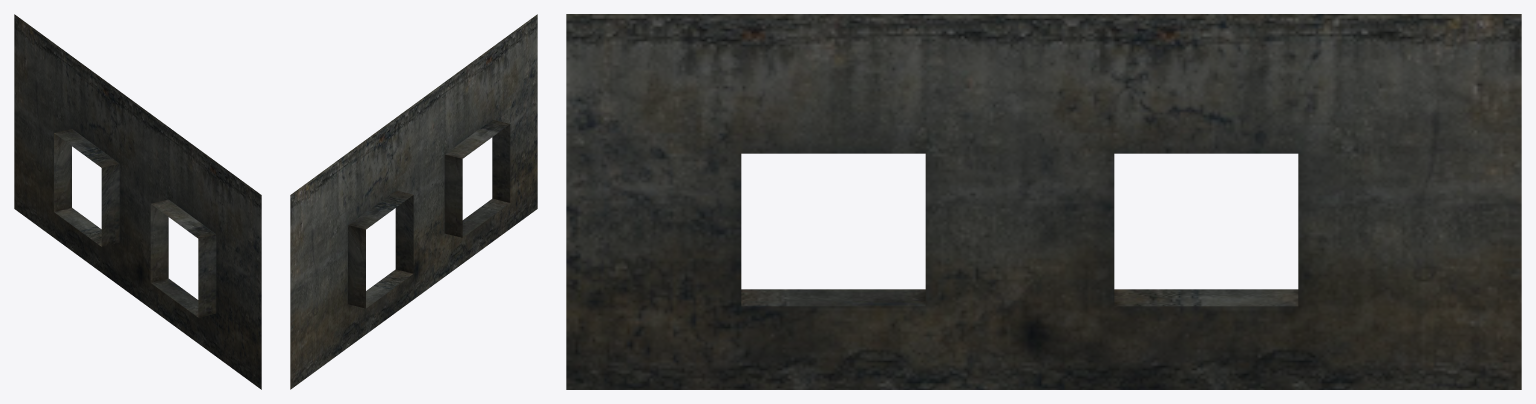
Rendered from Wall_05.FBX.
The picture shows the model from 3 angles, left to right: view 1: azimuth 30°, elevation 25°; view 2: azimuth 150°, elevation 25°; view 3: azimuth 270°, elevation 25°; orthographic projection. The views are drawn at different scales.
Visible parts, largest first — view 1: Wall_05; view 2: Wall_05; view 3: Wall_05.
Part boxes in pixels (<box>): Wall_05: <box>14,14,261,389</box>; Wall_05: <box>290,14,537,389</box>; Wall_05: <box>566,14,1521,389</box>.
Bounding box in the file's own units: 49.46 × 511 × 1177.
